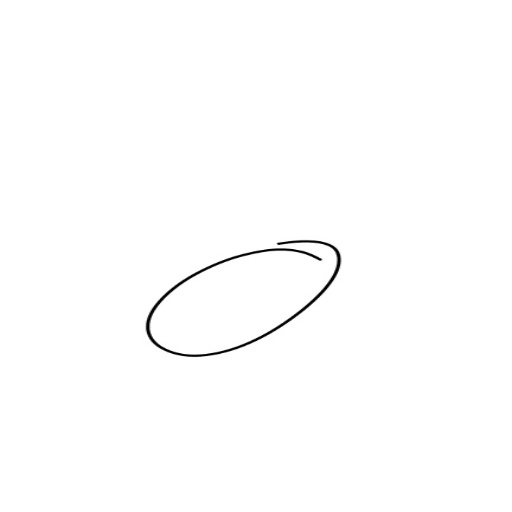circle: (141, 237, 344, 360)
